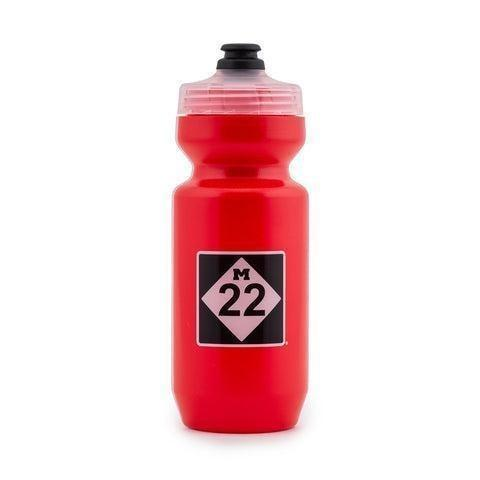gym bottle: (168, 39, 313, 436)
